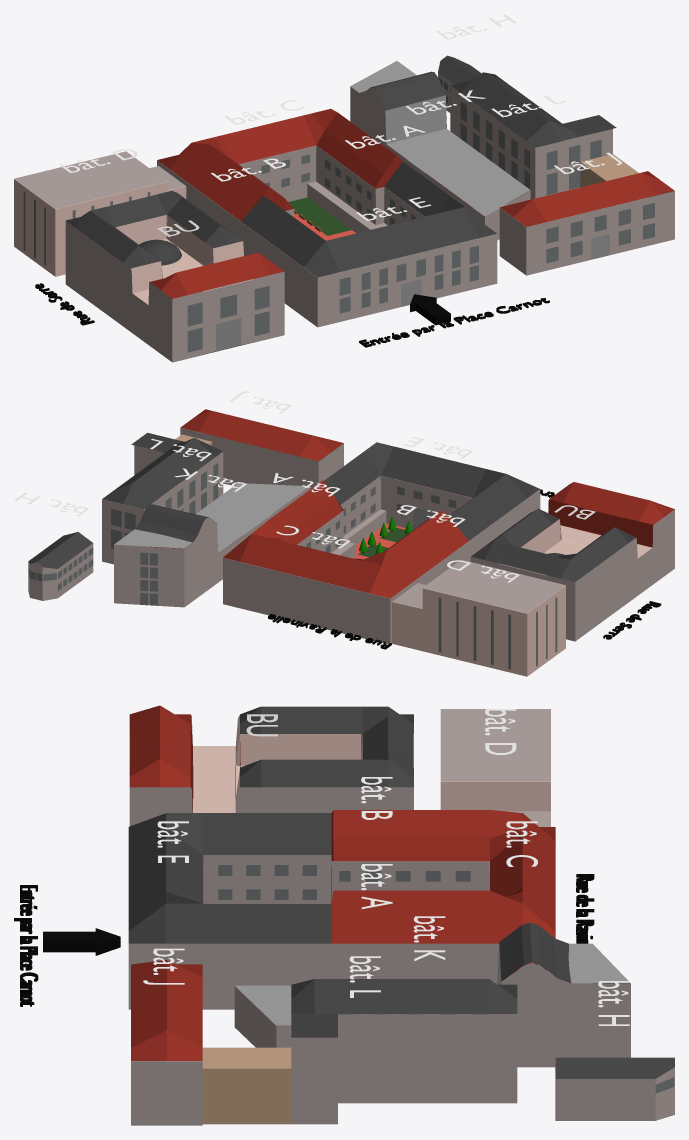
File: bat7.glb
3 renders of one model, top to bottom at view 1: azimuth 30°, elevation 25°; view 2: azimuth 150°, elevation 25°; view 3: azimuth 270°, elevation 25°, orthographic. The views are drawn at different scales.
Visible parts, largest first — view 1: toits, Bâtiment principal, Cube.001, Cube.005, Cube.006, Cube, Cube.004, sol fac, Geny.009, Cube.003; view 2: toits, Bâtiment principal, Cube, Cube.004, Cube.001, Cube.006, Cube.005, Cube.007, sol fac, Geny.011, Geny.012; view 3: toits, Cube.006, Bâtiment principal, Cube.004, Cube.001, Cube.007, Cube.005, Cube, Cube.003, Geny.009, Geny.011.
Part boxes in pixels (bbox=[...]): toits: bbox=[14, 55, 674, 304]; Bâtiment principal: bbox=[157, 145, 497, 327]; Cube.001: bbox=[65, 221, 284, 362]; Cube.005: bbox=[499, 191, 674, 275]; Cube.006: bbox=[450, 86, 647, 205]; Cube: bbox=[14, 179, 186, 276]; Cube.004: bbox=[350, 86, 530, 240]; sol fac: bbox=[288, 197, 355, 240]; Geny.009: bbox=[359, 298, 549, 347]; Cube.003: bbox=[410, 294, 450, 325]; toits: bbox=[28, 409, 674, 613]; Bâtiment principal: bbox=[223, 475, 540, 644]; Cube: bbox=[392, 585, 565, 676]; Cube.004: bbox=[114, 487, 309, 607]; Cube.001: bbox=[470, 500, 674, 641]; Cube.006: bbox=[102, 434, 223, 564]; Cube.005: bbox=[180, 427, 343, 489]; Cube.007: bbox=[28, 543, 93, 600]; sol fac: bbox=[353, 516, 412, 559]; Geny.011: bbox=[268, 614, 391, 649]; Geny.012: bbox=[603, 601, 661, 639]; toits: bbox=[128, 705, 674, 1078]; Cube.006: bbox=[197, 1014, 517, 1124]; Bâtiment principal: bbox=[128, 855, 498, 1009]; Cube.004: bbox=[234, 962, 630, 1067]; Cube.001: bbox=[129, 714, 413, 826]; Cube.007: bbox=[555, 1058, 674, 1120]; Cube.005: bbox=[131, 1061, 202, 1125]; Cube: bbox=[440, 781, 550, 811]; Cube.003: bbox=[43, 928, 120, 955]; Geny.009: bbox=[14, 885, 38, 1006]; Geny.011: bbox=[576, 874, 594, 943].
Size of the model in its own units: 18.88 by 2.69 by 14.54.
